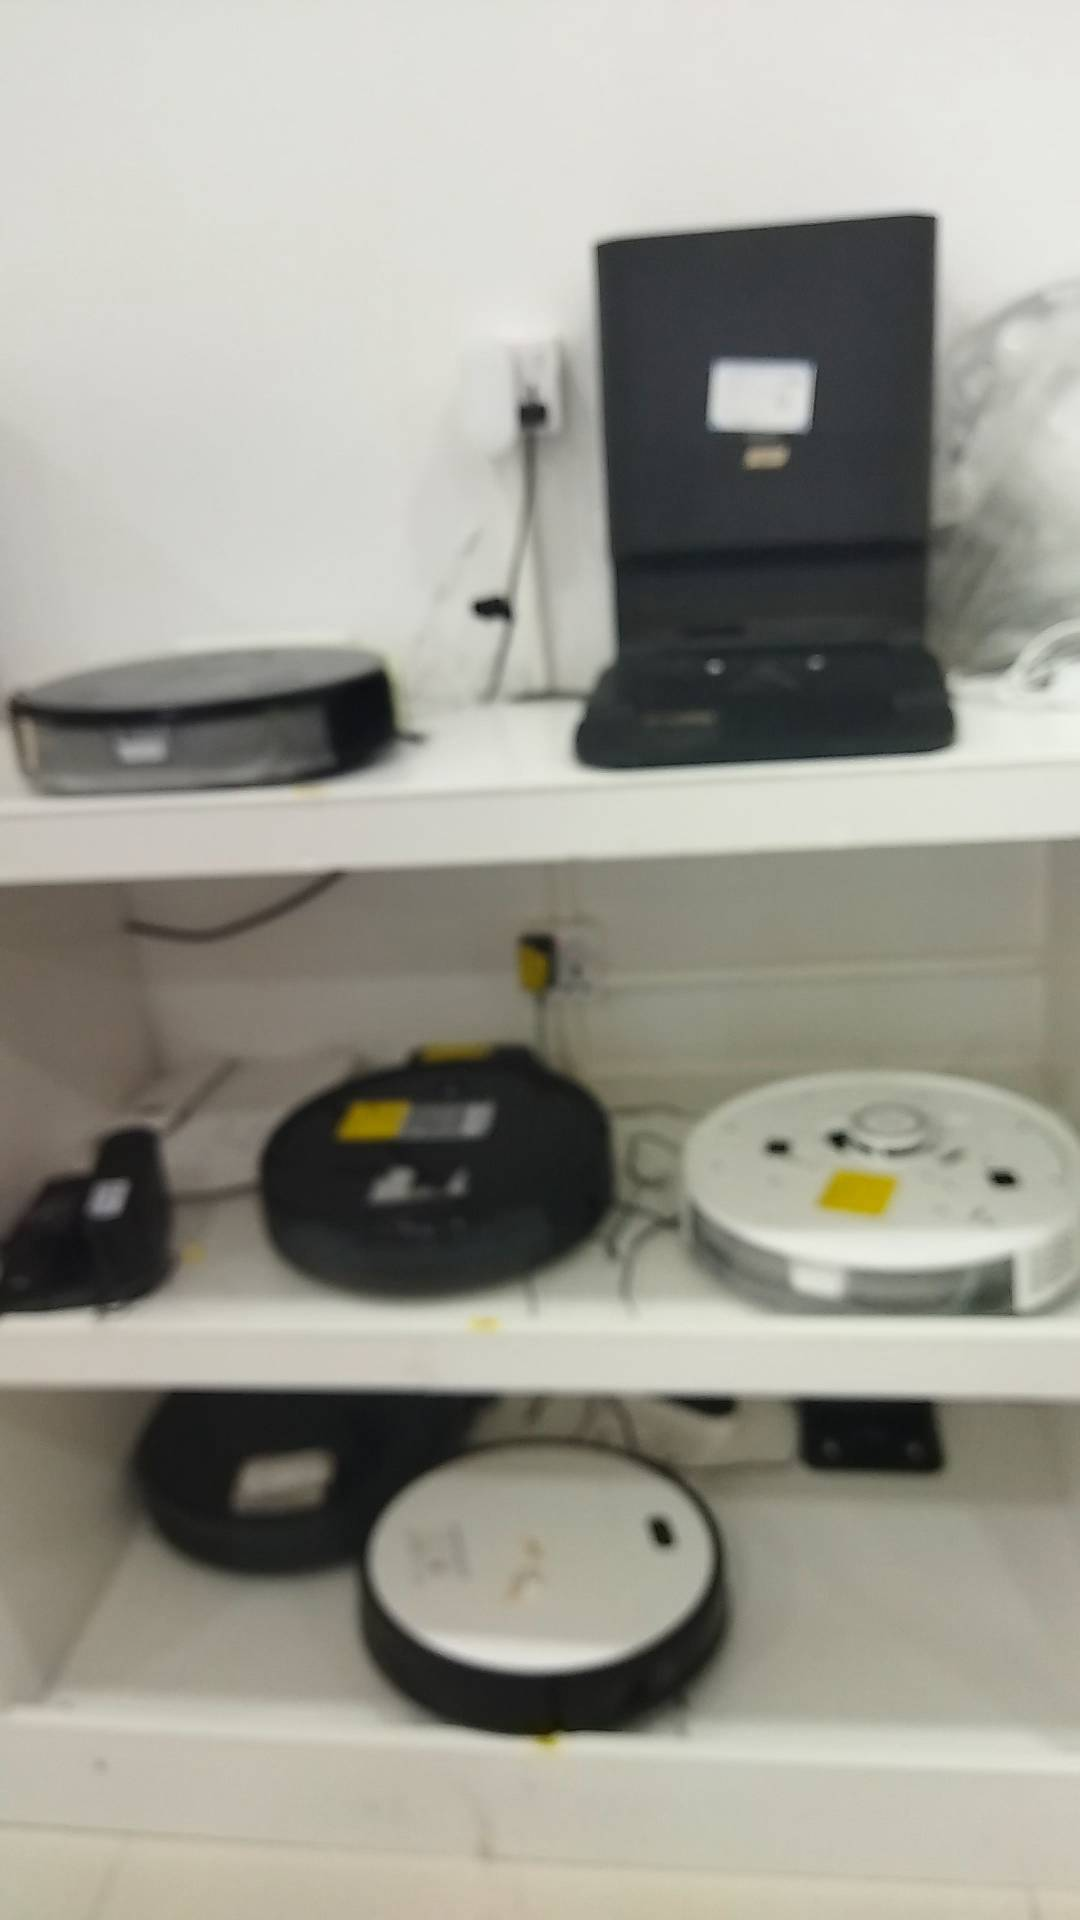dust collecting barrel: (578, 214, 957, 770)
recharge seat: (1, 1122, 175, 1317)
